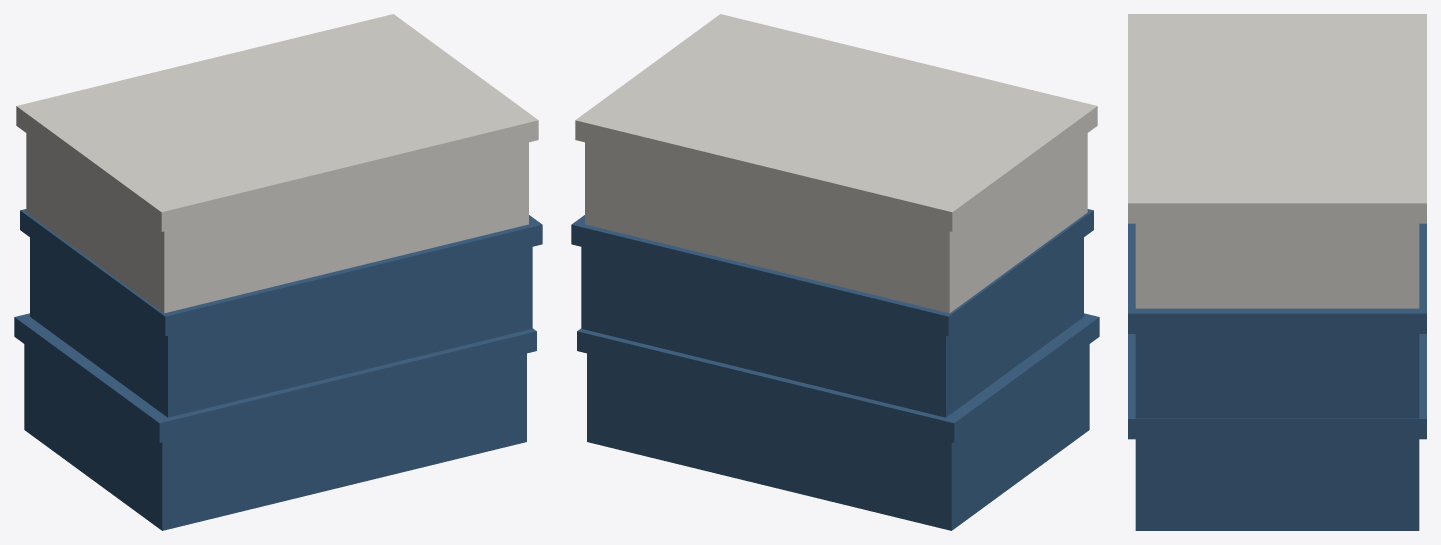
Rendered from prop_fish_box_stack.glb.
The picture shows the model from 3 angles, left to right: view 1: azimuth 30°, elevation 25°; view 2: azimuth 150°, elevation 25°; view 3: azimuth 270°, elevation 25°; orthographic projection. The views are drawn at different scales.
Visible parts, largest first — view 1: Boxes; view 2: Boxes; view 3: Boxes.
Boxes of the visible parts, <box> form: Boxes: <box>14,14,542,530</box>; Boxes: <box>571,14,1099,530</box>; Boxes: <box>1128,14,1426,530</box>.
Size of what is drawn, in the model's own units: 0.609 by 0.49 by 0.4.
